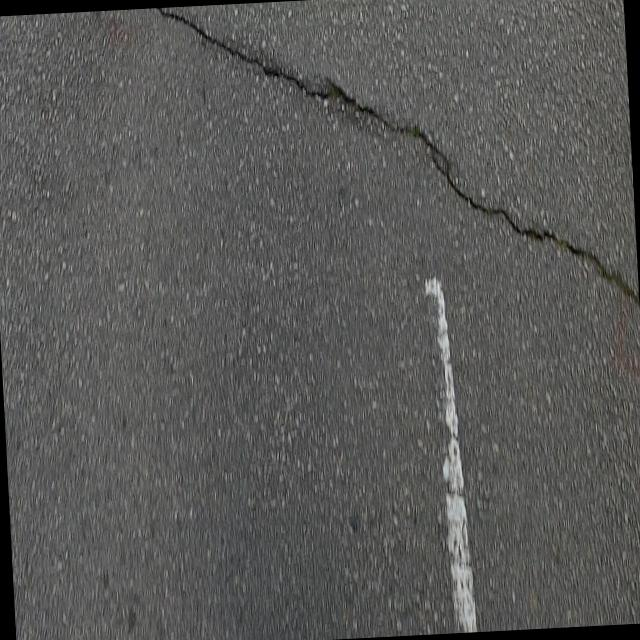Retak-Melintang: (149, 8, 639, 310)
